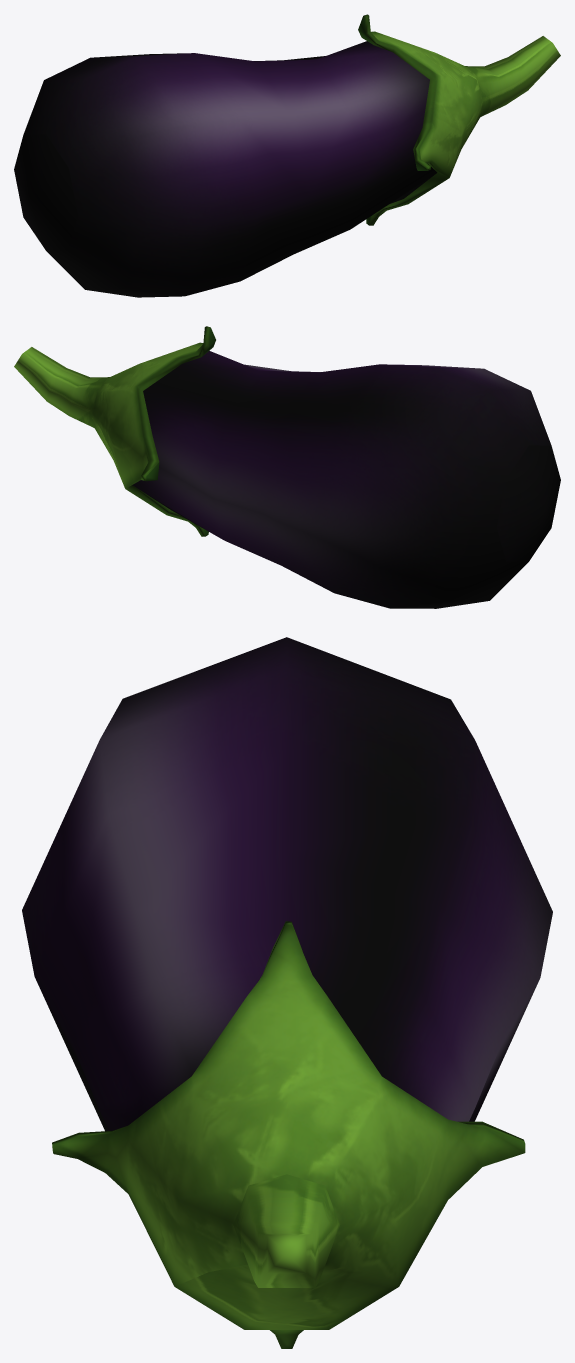
File: Eggplant.fbx
3 renders of one model, top to bottom at view 1: azimuth 30°, elevation 25°; view 2: azimuth 150°, elevation 25°; view 3: azimuth 270°, elevation 25°, orthographic. The views are drawn at different scales.
Parts seen in each view (by area): view 1: Eggplant; view 2: Eggplant; view 3: Eggplant.
Part boxes in pixels (x1,y1,x2,y2): Eggplant: (14,14,560,297); Eggplant: (14,326,560,608); Eggplant: (22,637,552,1348).
Size of the model in its own units: 98.19 by 42.93 by 42.85.
